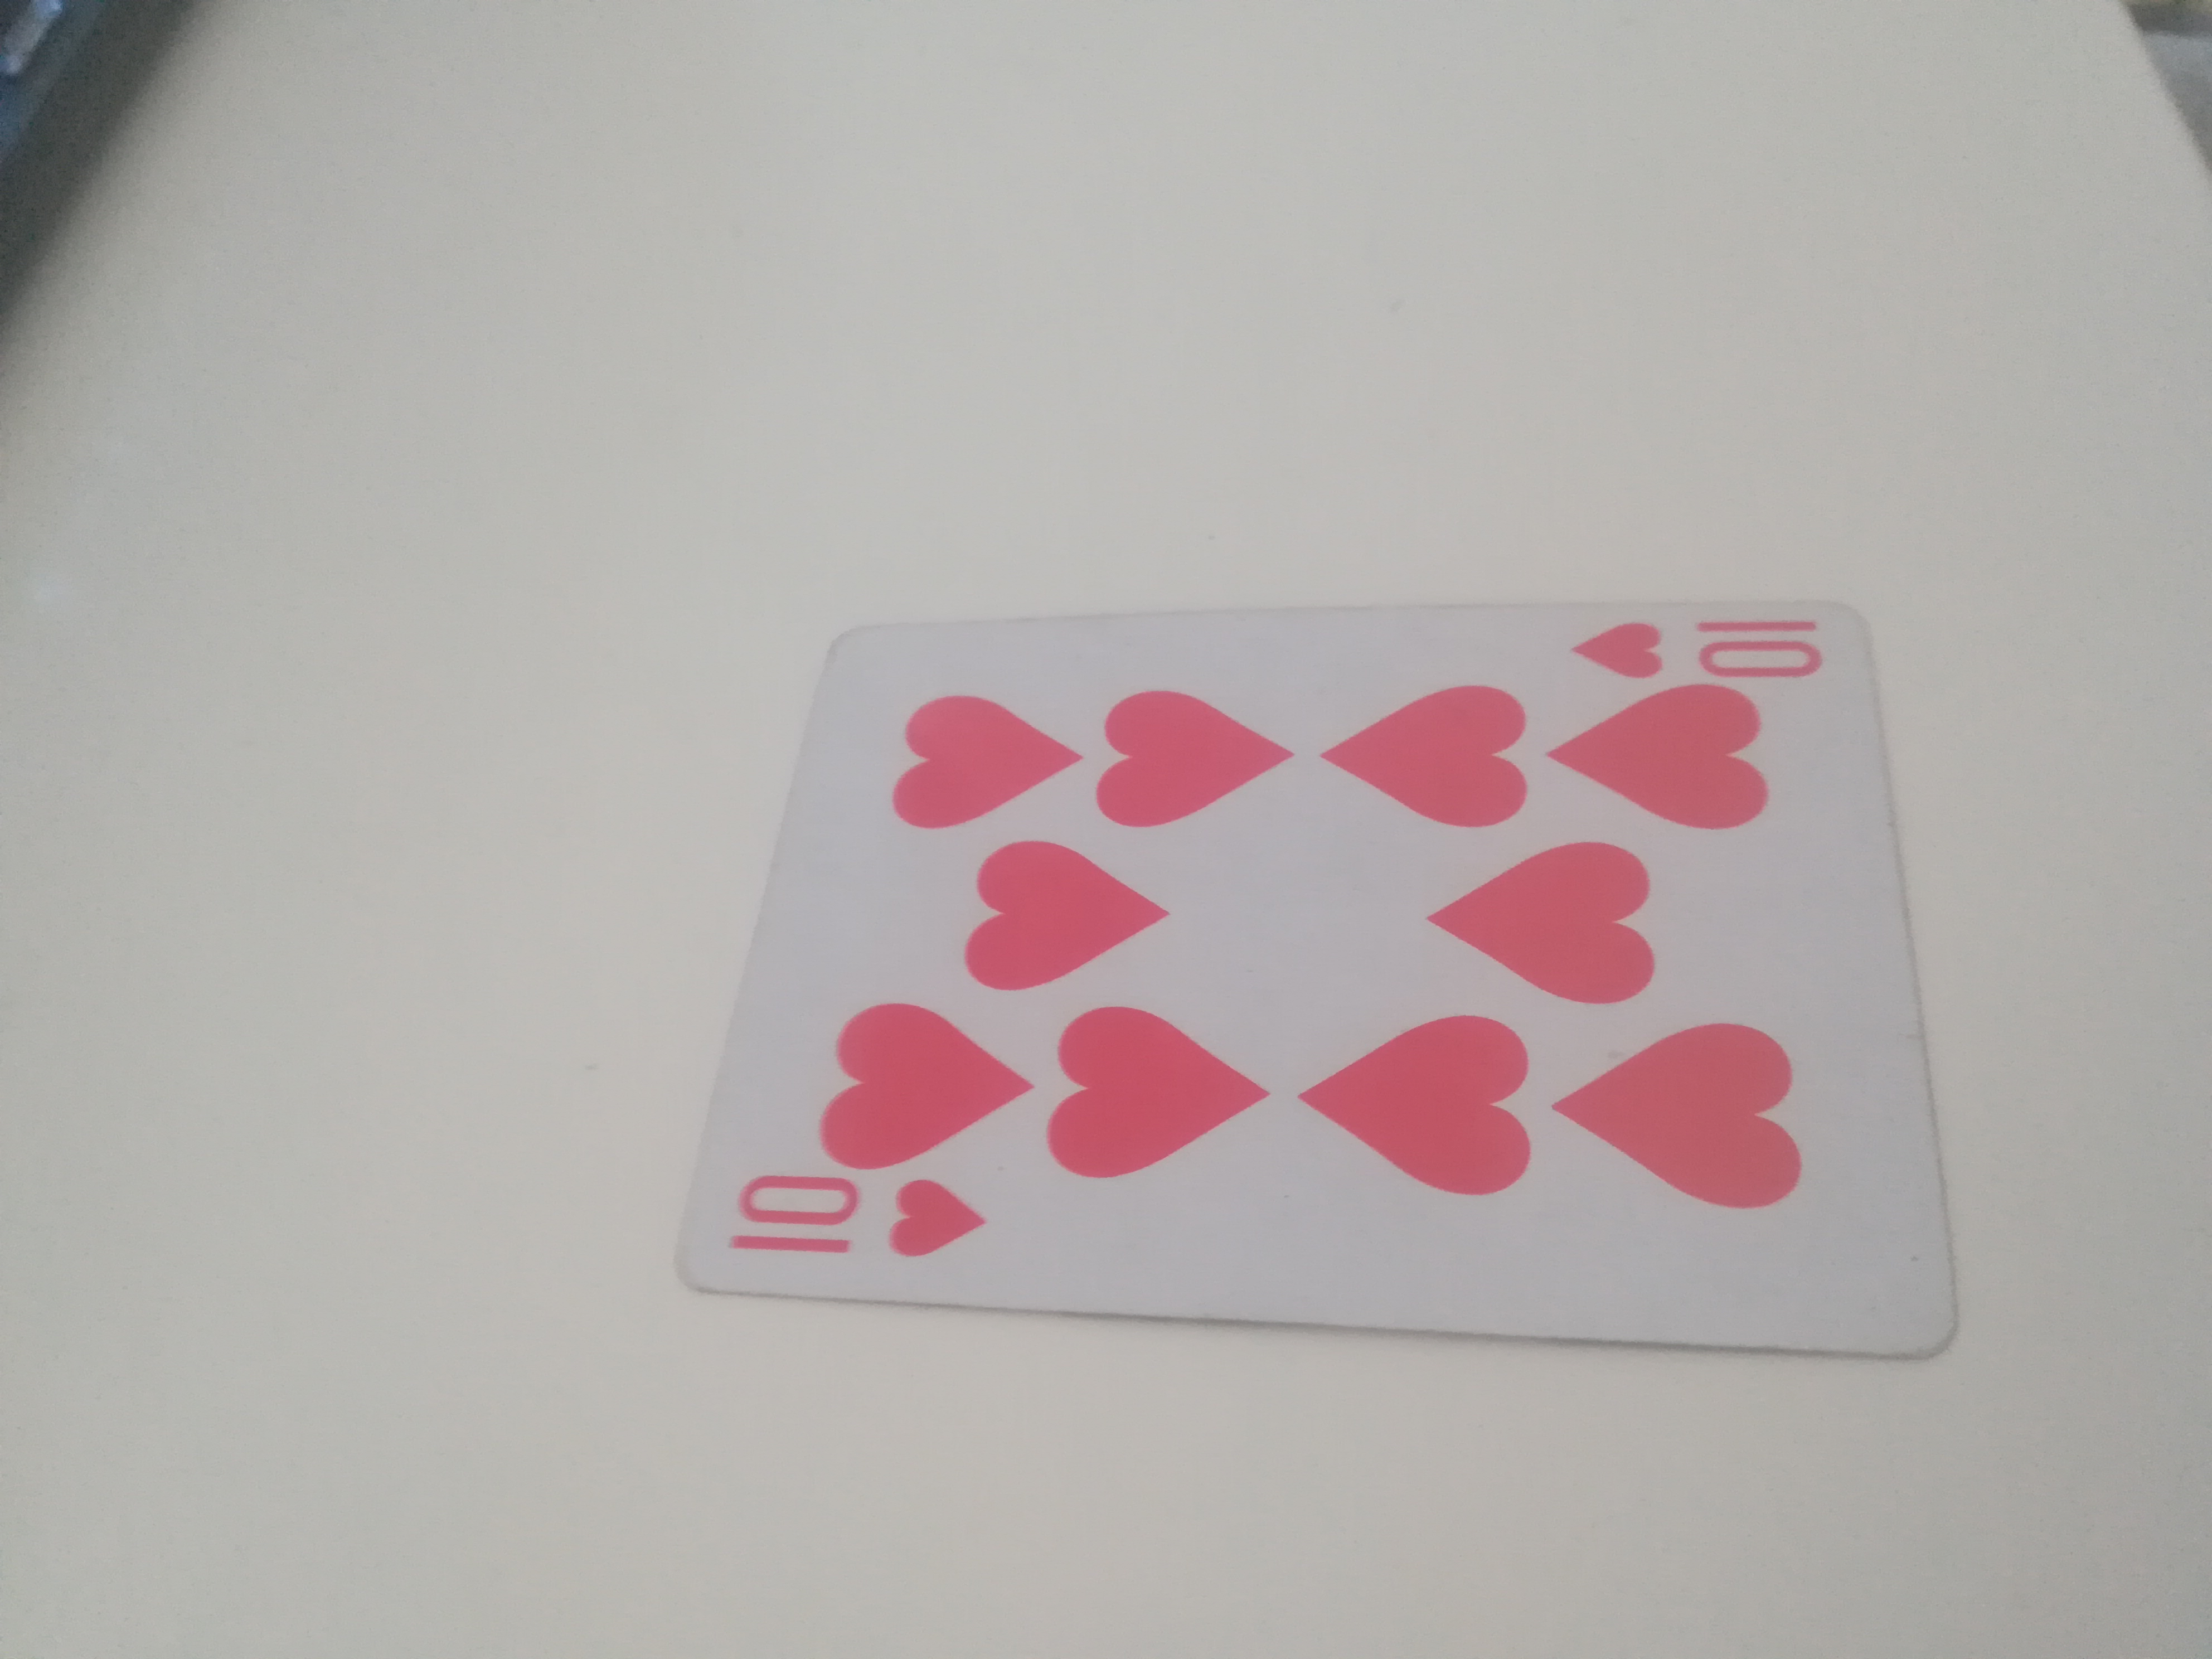10H: (672, 598, 1972, 1373)
